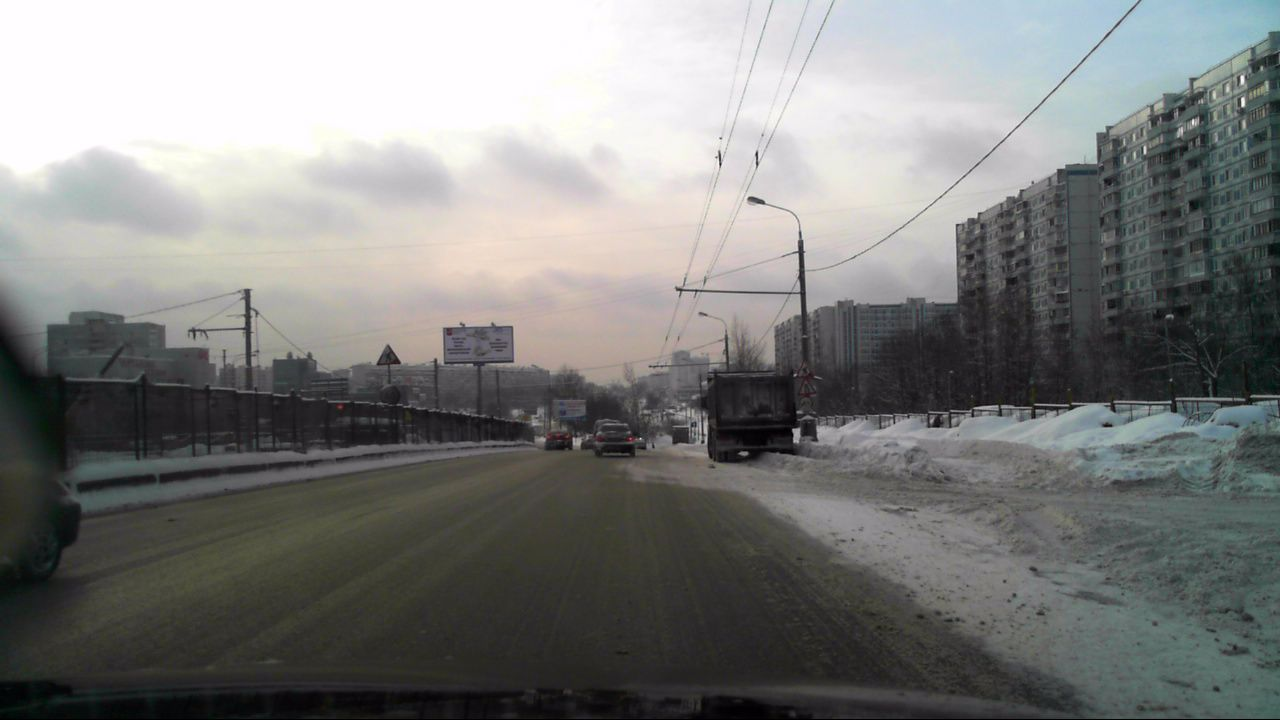speed_warning_40: (379, 384, 401, 406)
